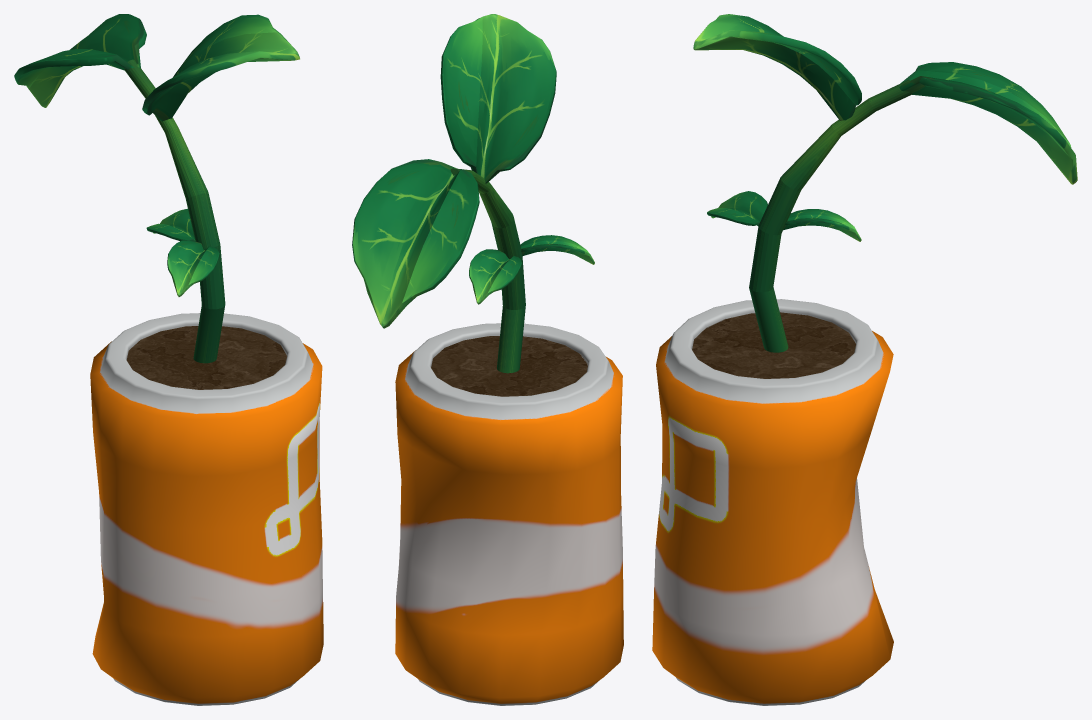
The model's file is Plant.fbx.
3 views of the same model, side by side, from view 1: azimuth 30°, elevation 25°; view 2: azimuth 150°, elevation 25°; view 3: azimuth 270°, elevation 25° (orthographic). The views are drawn at different scales.
Parts seen in each view (by area): view 1: CAN, Plant; view 2: CAN, Plant; view 3: CAN, Plant.
Boxes of the visible parts, x1,y1,x2,y2 form: CAN: (90,313,323,705); Plant: (14,14,299,363); CAN: (395,323,623,705); Plant: (352,14,594,373); CAN: (652,299,893,705); Plant: (693,14,1077,352).
Size of the model in its own units: 210 by 630 by 370.
Materials: 3 (3 with a texture image).
